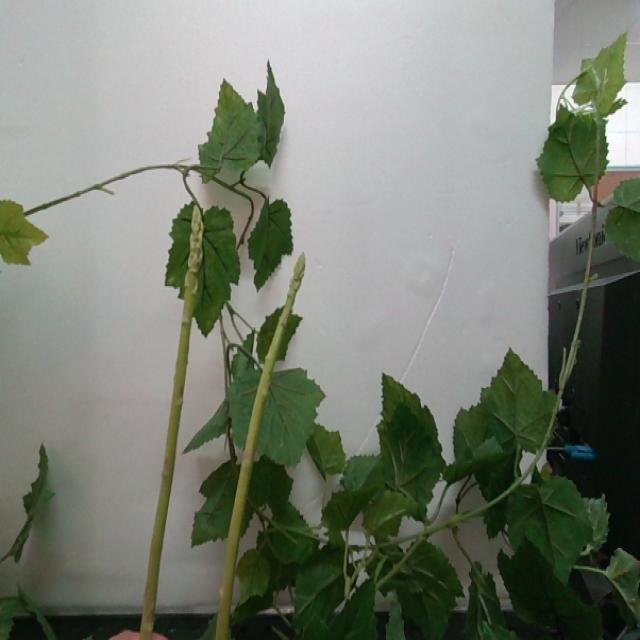aspargus: (213, 248, 305, 640), (137, 205, 203, 638)
